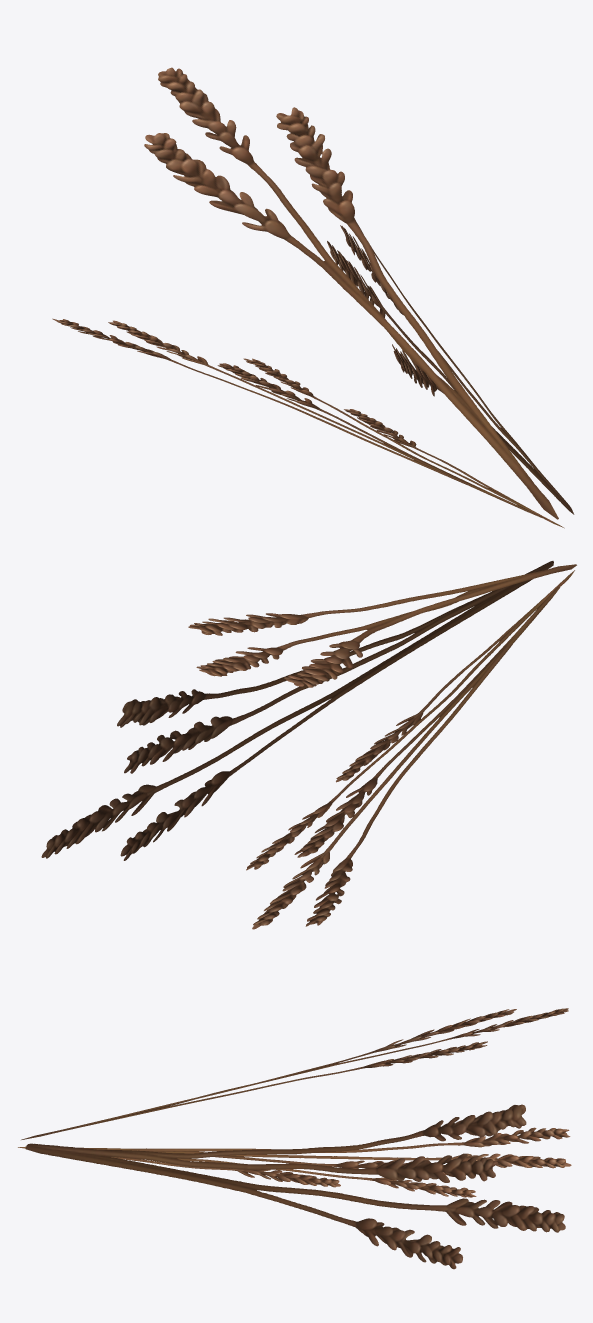
Rendered from Lavender_02_a.fbx.
The picture shows the model from 3 angles, top to bottom: view 1: azimuth 30°, elevation 25°; view 2: azimuth 150°, elevation 25°; view 3: azimuth 270°, elevation 25°; orthographic projection. The views are drawn at different scales.
Visible parts, largest first — view 1: Lavender_02_a; view 2: Lavender_02_a; view 3: Lavender_02_a.
Part boxes in pixels (x1=…): Lavender_02_a: x1=52, y1=67, x2=574, y2=528; Lavender_02_a: x1=41, y1=561, x2=576, y2=929; Lavender_02_a: x1=18, y1=1008, x2=571, y2=1269.
Size of the model in its own units: 1.75 by 1.7 by 3.51.
